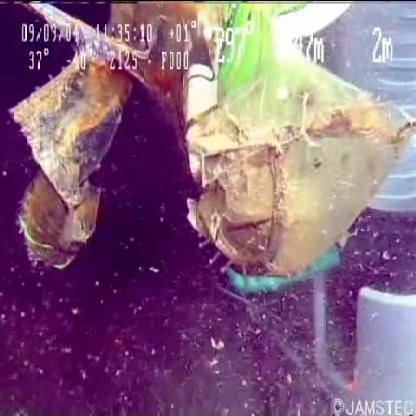Rác: (12, 1, 416, 290)
